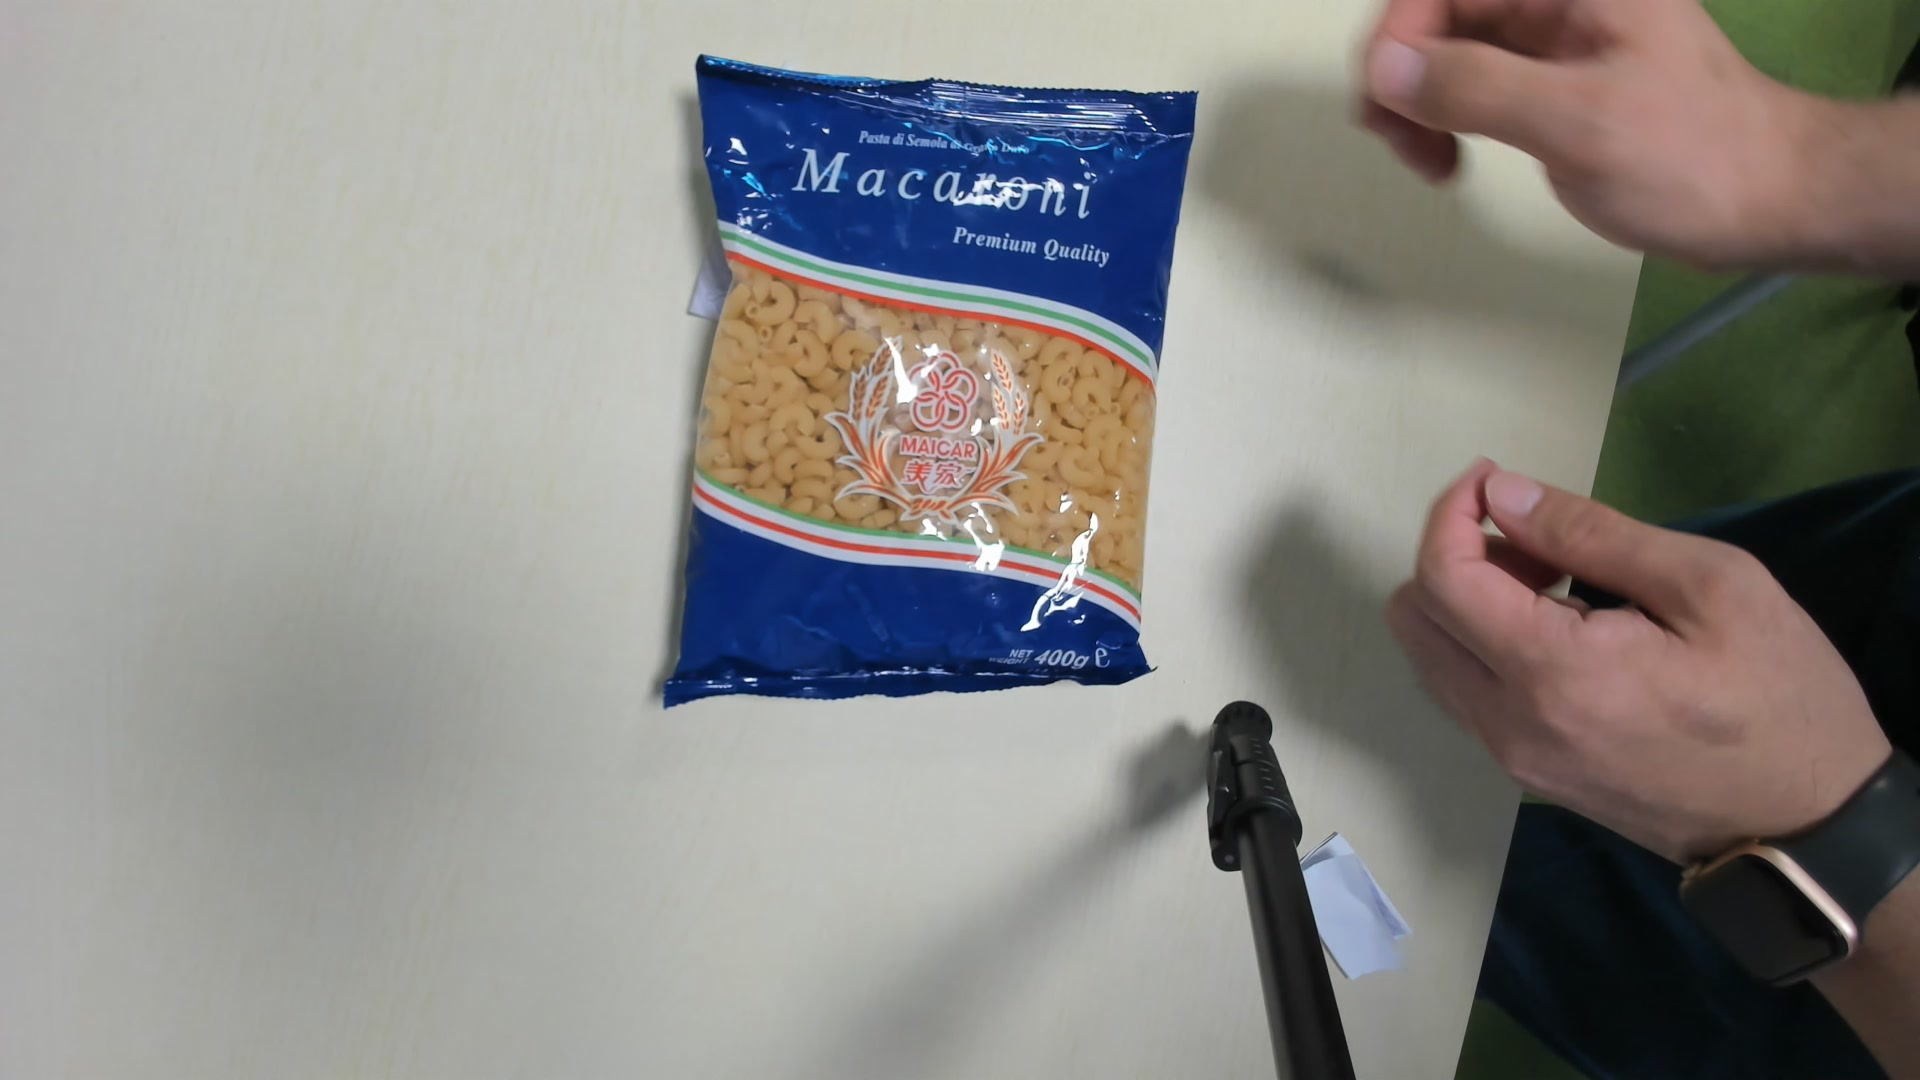Pasta_400-499g_Halal_NonHealthy: (676, 47, 1193, 702)
